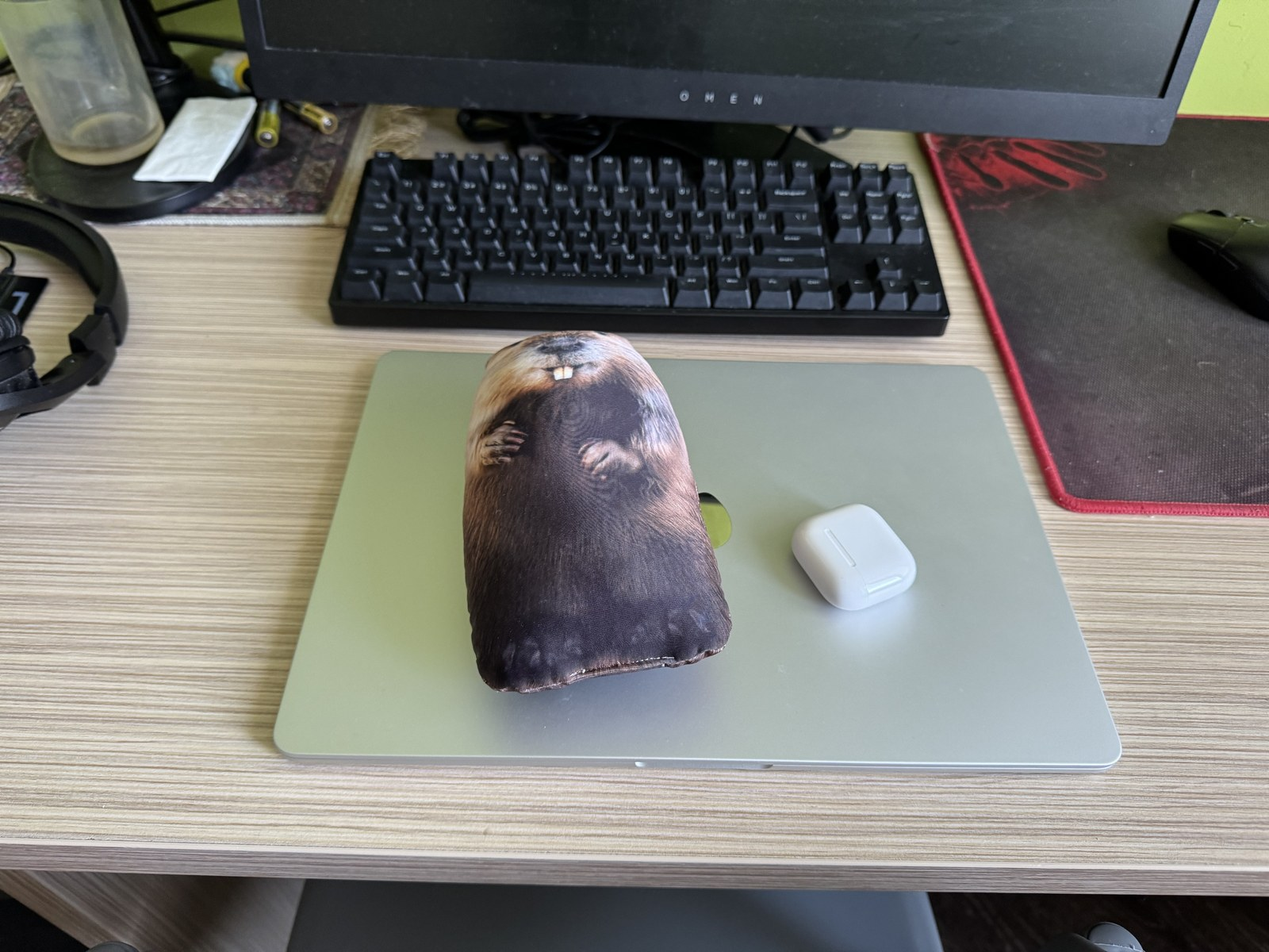laptop: (271, 346, 1123, 772)
